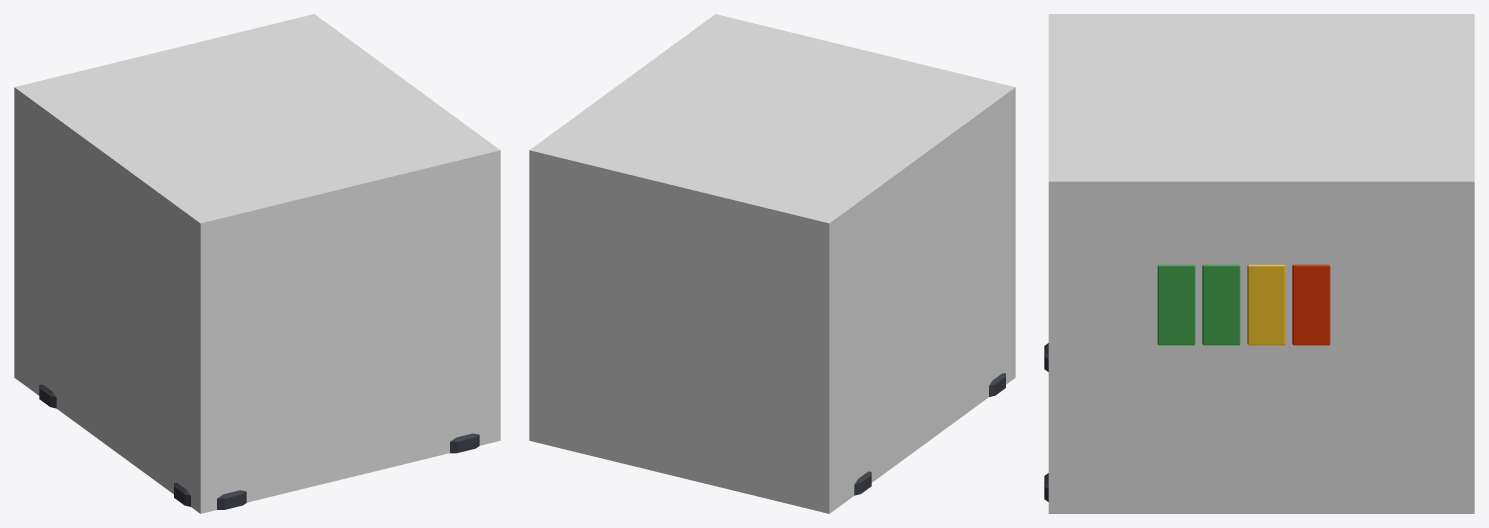
The model's file is Battery.glb.
The picture shows the model from 3 angles, left to right: view 1: azimuth 30°, elevation 25°; view 2: azimuth 150°, elevation 25°; view 3: azimuth 270°, elevation 25°; orthographic projection. The views are drawn at different scales.
Visible parts, largest first — view 1: COL_Pack, Battery_Dark.001; view 2: COL_Pack, Battery_Dark.001; view 3: COL_Pack, Battery_Green.001, Battery_Red.001, Battery_Yellow.001.
Boxes of the visible parts, box(x1,y1,x2,y2) form: COL_Pack: box(14, 14, 500, 513); Battery_Dark.001: box(39, 384, 479, 509); COL_Pack: box(529, 14, 1015, 513); Battery_Dark.001: box(854, 373, 1005, 495); COL_Pack: box(1048, 14, 1474, 513); Battery_Green.001: box(1157, 264, 1240, 345); Battery_Red.001: box(1292, 264, 1330, 345); Battery_Yellow.001: box(1247, 264, 1285, 345).
Bounding box in the file's own units: 3.4 × 3.1 × 3.64.
